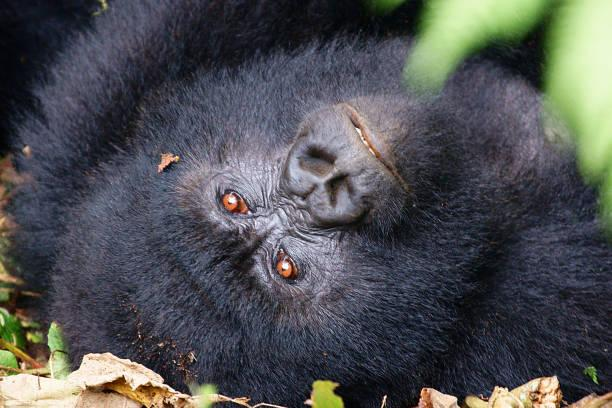goriile_montagne: (11, 2, 612, 403)
